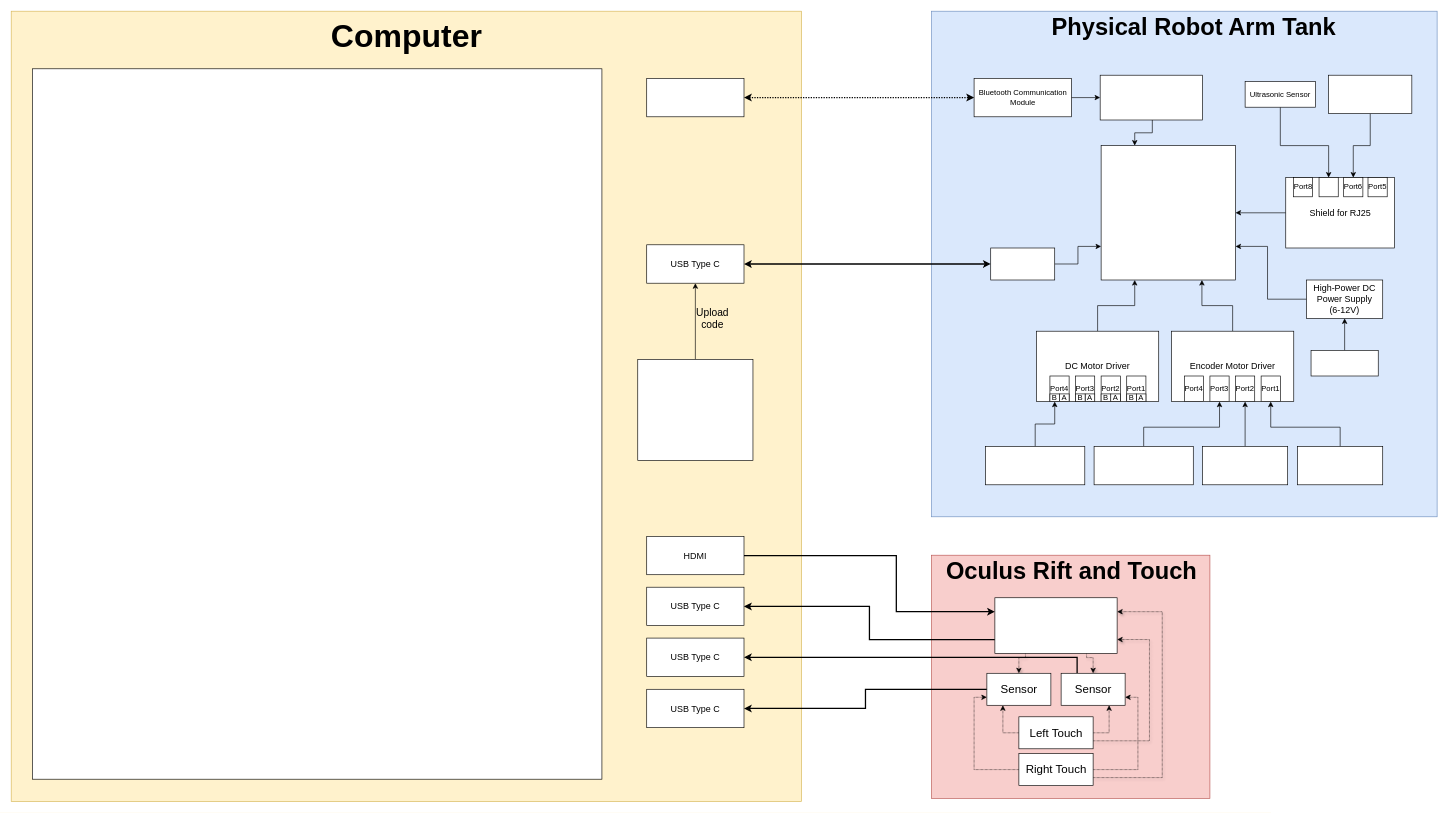
The diagram is 1448 pixels wide and 813 high, and some of its shapes have lost their labels. Here are the shapes that lost their labels. From the top down, the centre of each, then its label:
At point 695,97: "Bluetooth".
At point 1151,97: "Wireless Communication Module".
At point 1370,94: "3 Axis Accelerometer and Gyro Sensor".
At point 1328,187: "Port7".
At point 1168,212: "MegaPi".
At point 1022,263: "USB-B type".
At point 1344,363: "Battery Holder 6 x AA".
At point 317,423: "Unity".
At point 695,409: "Arduino IDE".
At point 1035,465: "DC Motor (Makeblock Robot Gripper)".
At point 1143,465: "Encoder Motor 9V/86RPM (Arm Up/Down Movement)".
At point 1245,465: "Encoder Motor 9V/185RPM (Left Track)".
At point 1340,465: "Encoder Motor 9V/185RPM (Right Track)".
At point 1055,625: "Rift".
